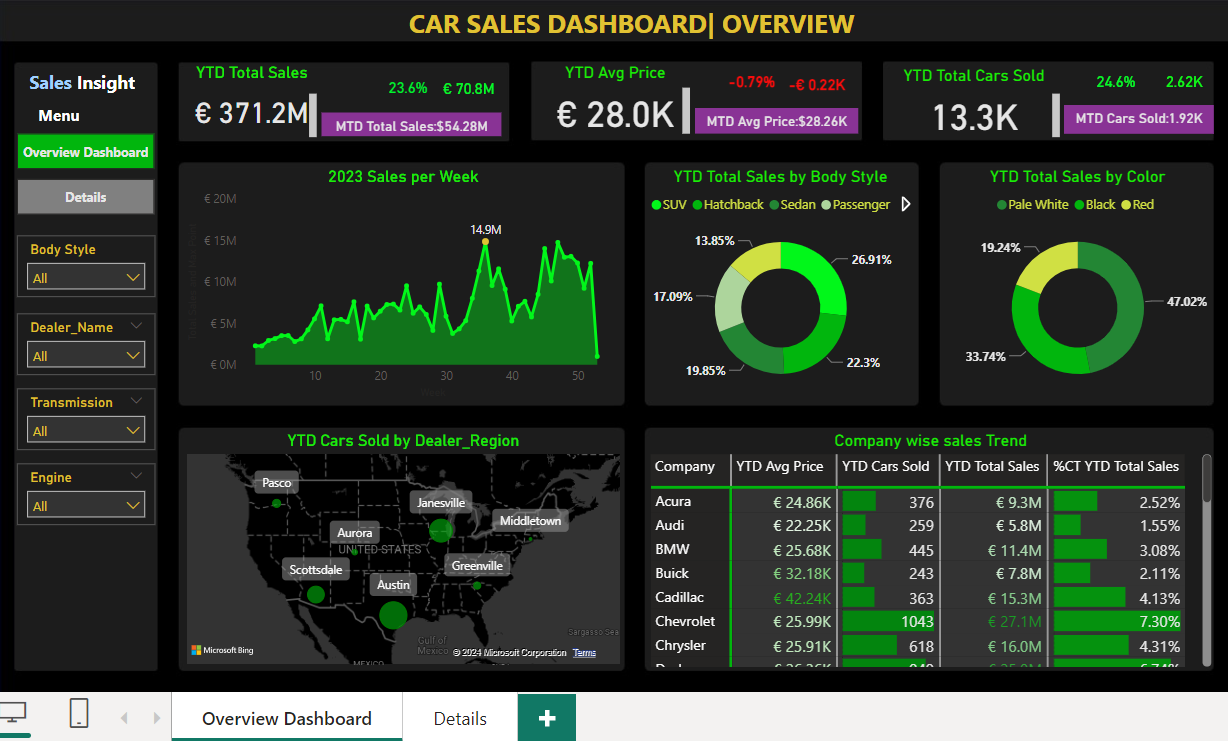

Layout of this report page (visuals, bound fields, positions):
{"tool":"powerbi","page":{"name":"Overview Dashboard","canvas":[1280,720],"ordinal":0},"visuals":[{"type":"card","title":"YTD Total Sales","fields":{"Values":["car_data.YTD Total Sales"]},"box":[190.5,65.6,145.2,79.7],"z":0},{"type":"textbox","box":[315.5,92.1,20.3,64],"z":1000},{"type":"card","fields":{"Values":["car_data.Diff YTD-PYTD Sales"]},"box":[454.5,75,68.7,35.9],"z":2000},{"type":"card","title":"YoY %","fields":{"Values":["car_data.YoY Sales Growth%"]},"box":[385.5,71.8,79.4,39.7],"z":3000},{"type":"card","title":"YTD Avg Price","fields":{"Values":["car_data.YTD Avg Price"]},"box":[548,66.1,187.1,79.4],"z":4000},{"type":"textbox","box":[702.8,85.9,21.9,65.6],"z":5000},{"type":"card","fields":{"Values":["car_data.Diff YTD-PYTD"]},"box":[810.6,71.8,81.2,32.8],"z":6000},{"type":"card","title":"YoY %","fields":{"Values":["car_data.YoY Avg Price%"]},"box":[743.4,71.8,79.7,28.1],"z":7000},{"type":"card","fields":{"Values":["car_data.Diff YTD-PYTD Cars Sold"]},"box":[1202.6,68.7,62.5,32.8],"z":8000},{"type":"card","title":"YoY %","fields":{"Values":["car_data.YoY Cars Sold%"]},"box":[1123.6,66,79.4,39.7],"z":9000},{"type":"card","title":"YTD Total Cars Sold","fields":{"Values":["car_data.YTD Cars Sold"]},"box":[922.2,68,187.1,79.4],"z":10000},{"type":"textbox","box":[1088.5,92.6,20.8,64.3],"z":11000},{"type":"card","fields":{"Values":["car_data.KPI Sales difference"]},"box":[335.8,117.1,187.4,25],"z":12000},{"type":"card","fields":{"Values":["car_data.KPI MTD Avg Price"]},"box":[724.7,112.5,170.2,26.6],"z":13000},{"type":"card","fields":{"Values":["car_data.KPI Cars Sold"]},"box":[1108.9,109.3,156.2,29.7],"z":14000},{"type":"areaChart","title":"2023 Sales per Week","fields":{"Category":["Calendar Table.Week"],"Y":["car_data.Total Sales","car_data.Max Point"]},"box":[190.5,173.4,460.7,245.2],"z":15000},{"type":"donutChart","fields":{"Category":["car_data.Body Style"],"Y":["car_data.YTD Total Sales"]},"box":[673.1,173.4,281.1,245.2],"z":16000},{"type":"donutChart","fields":{"Category":["car_data.Color"],"Y":["car_data.YTD Total Sales"]},"box":[980.8,173.4,284.3,245.2],"z":17000},{"type":"map","fields":{"Category":["car_data.Dealer_Region"],"Size":["car_data.YTD Cars Sold"]},"box":[190.5,448.2,460.7,248.3],"z":18000},{"type":"pivotTable","title":"Company wise sales Trend","fields":{"Rows":["car_data.Company"],"Values":["car_data.YTD Avg Price","car_data.YTD Cars Sold","car_data.YTD Total Sales","Divide(car_data.YTD Total Sales, ScopedEval(car_data.YTD Total Sales, [Role.Columns]))"]},"box":[673.1,448.2,594,251],"z":19000},{"type":"textbox","box":[421.7,0,532.6,51.5],"z":20000},{"type":"slicer","fields":{"Values":["car_data.Body Style"]},"box":[18.7,245.2,143.7,64],"z":21000},{"type":"slicer","fields":{"Values":["car_data.Dealer_Name"]},"box":[18.7,326.4,143.7,64],"z":22000},{"type":"slicer","fields":{"Values":["car_data.Transmission"]},"box":[18.7,404.5,143.7,64],"z":23000},{"type":"slicer","fields":{"Values":["car_data.Engine"]},"box":[18.7,482.6,143.7,64],"z":24000},{"type":"pageNavigator","box":[18.7,139,143.7,84.3],"z":25000},{"type":"textbox","box":[35.9,103.1,78.1,32.8],"z":26000},{"type":"textbox","box":[26.6,67.2,135.9,40.6],"z":27000}]}

Visuals, with their boxes on the page's 1280x720 design canvas (x1, y1, x2, y2). These are canvas units, not pixel positions in the 1228x741 screenshot, which may show the page scaled, cropped or inside an application window:
"YTD Total Sales" card: pyautogui.locateOnScreen(190, 66, 336, 145)
textbox: pyautogui.locateOnScreen(316, 92, 336, 156)
card - car_data.Diff YTD-PYTD Sales: pyautogui.locateOnScreen(454, 75, 523, 111)
"YoY %" card: pyautogui.locateOnScreen(386, 72, 465, 112)
"YTD Avg Price" card: pyautogui.locateOnScreen(548, 66, 735, 146)
textbox: pyautogui.locateOnScreen(703, 86, 725, 152)
card - car_data.Diff YTD-PYTD: pyautogui.locateOnScreen(811, 72, 892, 105)
"YoY %" card: pyautogui.locateOnScreen(743, 72, 823, 100)
card - car_data.Diff YTD-PYTD Cars Sold: pyautogui.locateOnScreen(1203, 69, 1265, 102)
"YoY %" card: pyautogui.locateOnScreen(1124, 66, 1203, 106)
"YTD Total Cars Sold" card: pyautogui.locateOnScreen(922, 68, 1109, 147)
textbox: pyautogui.locateOnScreen(1088, 93, 1109, 157)
card - car_data.KPI Sales difference: pyautogui.locateOnScreen(336, 117, 523, 142)
card - car_data.KPI MTD Avg Price: pyautogui.locateOnScreen(725, 112, 895, 139)
card - car_data.KPI Cars Sold: pyautogui.locateOnScreen(1109, 109, 1265, 139)
"2023 Sales per Week" areaChart: pyautogui.locateOnScreen(190, 173, 651, 419)
donutChart - car_data.Body Style x car_data.YTD Total Sales: pyautogui.locateOnScreen(673, 173, 954, 419)
donutChart - car_data.Color x car_data.YTD Total Sales: pyautogui.locateOnScreen(981, 173, 1265, 419)
map - car_data.Dealer_Region x car_data.YTD Cars Sold: pyautogui.locateOnScreen(190, 448, 651, 696)
"Company wise sales Trend" pivotTable: pyautogui.locateOnScreen(673, 448, 1267, 699)
textbox: pyautogui.locateOnScreen(422, 0, 954, 52)
slicer - car_data.Body Style: pyautogui.locateOnScreen(19, 245, 162, 309)
slicer - car_data.Dealer_Name: pyautogui.locateOnScreen(19, 326, 162, 390)
slicer - car_data.Transmission: pyautogui.locateOnScreen(19, 404, 162, 468)
slicer - car_data.Engine: pyautogui.locateOnScreen(19, 483, 162, 547)
pageNavigator: pyautogui.locateOnScreen(19, 139, 162, 223)
textbox: pyautogui.locateOnScreen(36, 103, 114, 136)
textbox: pyautogui.locateOnScreen(27, 67, 162, 108)
